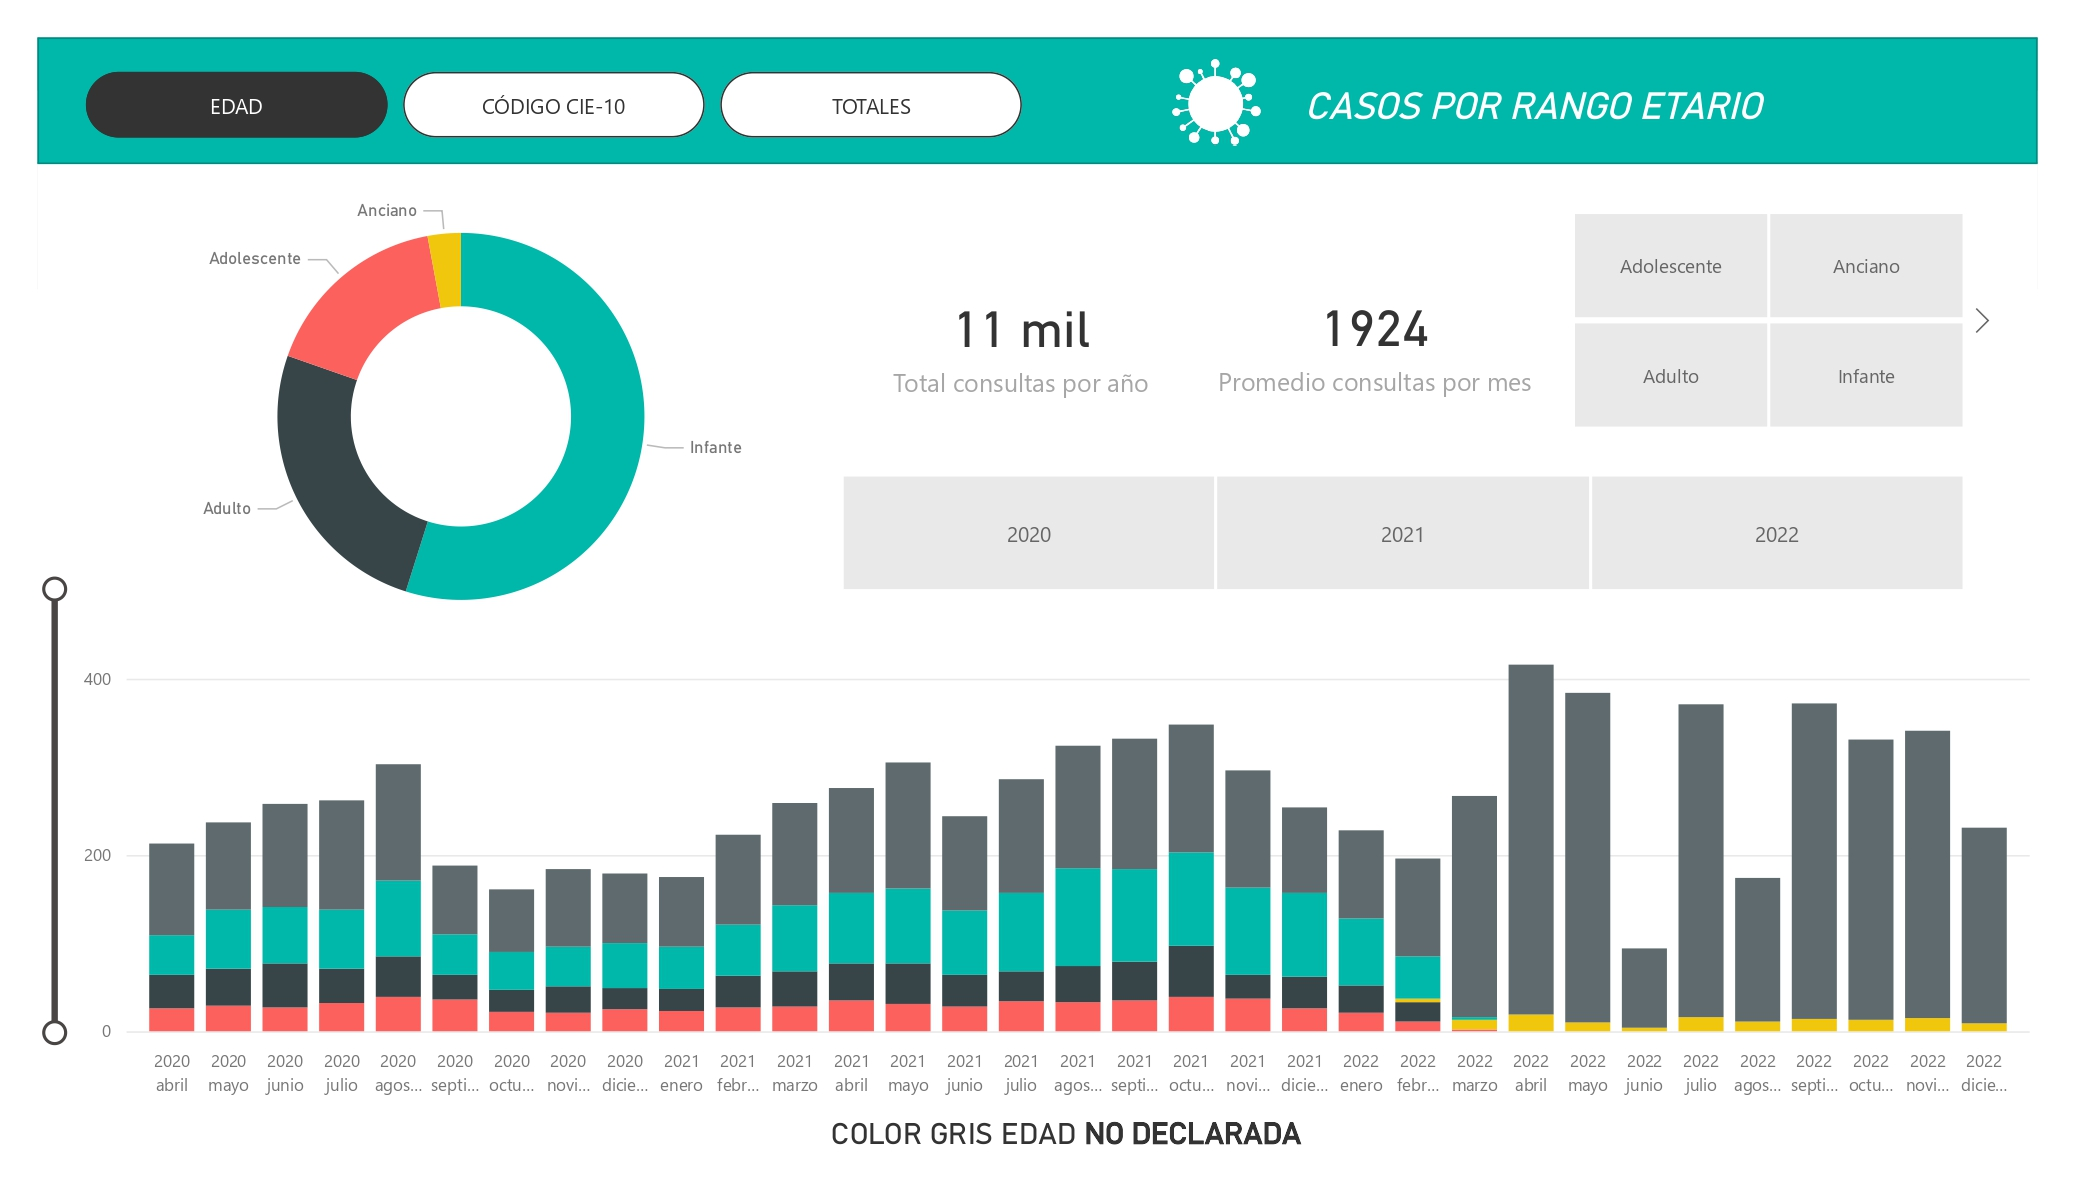

This screenshot's page, from the dashboard's own definition file:
{"tool":"powerbi","page":{"name":"EDAD","canvas":[1280,720],"ordinal":0},"visuals":[{"type":"textbox","box":[703.6,21.8,482.7,47.5],"z":0},{"type":"columnChart","fields":{"Category":["df.fecha.Variación.Jerarquía de fechas.Año","df.fecha.Variación.Jerarquía de fechas.Mes"],"Y":["CountNonNull(df.patologia_cod)"],"Series":["df.rango_etario"]},"box":[0,319.4,1280,344.6],"z":1000},{"type":"donutChart","fields":{"Category":["df.rango_etario"],"Y":["Sum(df.consulta_cantidad)"]},"box":[30.8,96.3,419.8,243.9],"z":2000},{"type":"shape","box":[0,0,1280,80.9],"z":3000},{"type":"pageNavigator","box":[30.8,21.8,599.6,42.4],"z":4000},{"type":"card","fields":{"Values":["Min(df.fecha)"]},"box":[534,95.4,284.9,231.9],"z":5000},{"type":"card","fields":{"Values":["Max(df.fecha)"]},"box":[854.7,95.4,308.7,231.9],"z":6000},{"type":"image","box":[703.5,8.9,102.9,64.8],"z":7000},{"type":"textbox","box":[806.3,25.4,328.9,48.3],"z":8000},{"type":"slicer","fields":{"Values":["df.fecha.Variación.Jerarquía de fechas.Año"]},"box":[563,633.7,300.4,85.8],"z":8001}]}

Visuals, with their boxes in screenshot pixels (x1, y1, x2, y2):
textbox: box=[1137, 72, 1891, 146]
columnChart - df.fecha.Variación.Jerarquía de fechas.Año x df.fecha.Variación.Jerarquía de fechas.Mes: box=[38, 537, 2038, 1075]
donutChart - df.rango_etario x Sum(df.consulta_cantidad): box=[86, 188, 742, 569]
shape: box=[38, 38, 2038, 164]
pageNavigator: box=[86, 72, 1022, 138]
card - Min(df.fecha): box=[872, 187, 1317, 549]
card - Max(df.fecha): box=[1373, 187, 1855, 549]
image: box=[1137, 51, 1298, 153]
textbox: box=[1297, 77, 1811, 153]
slicer - df.fecha.Variación.Jerarquía de fechas.Año: box=[917, 1028, 1387, 1162]
